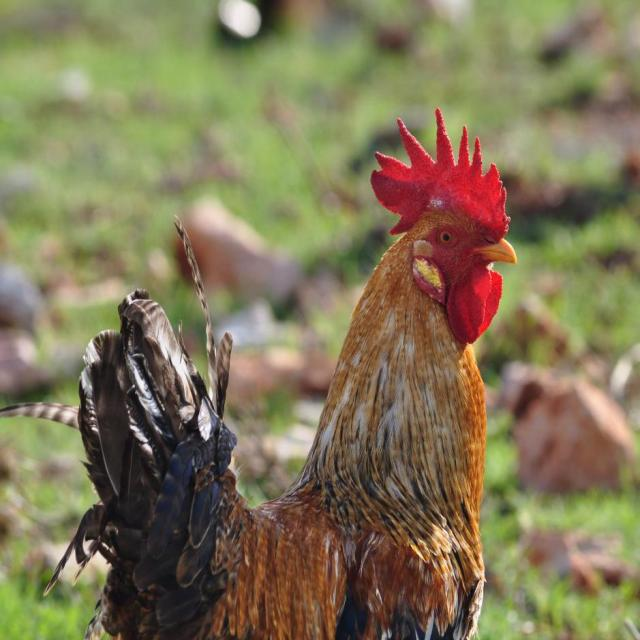Chicken: (0, 108, 526, 640)
